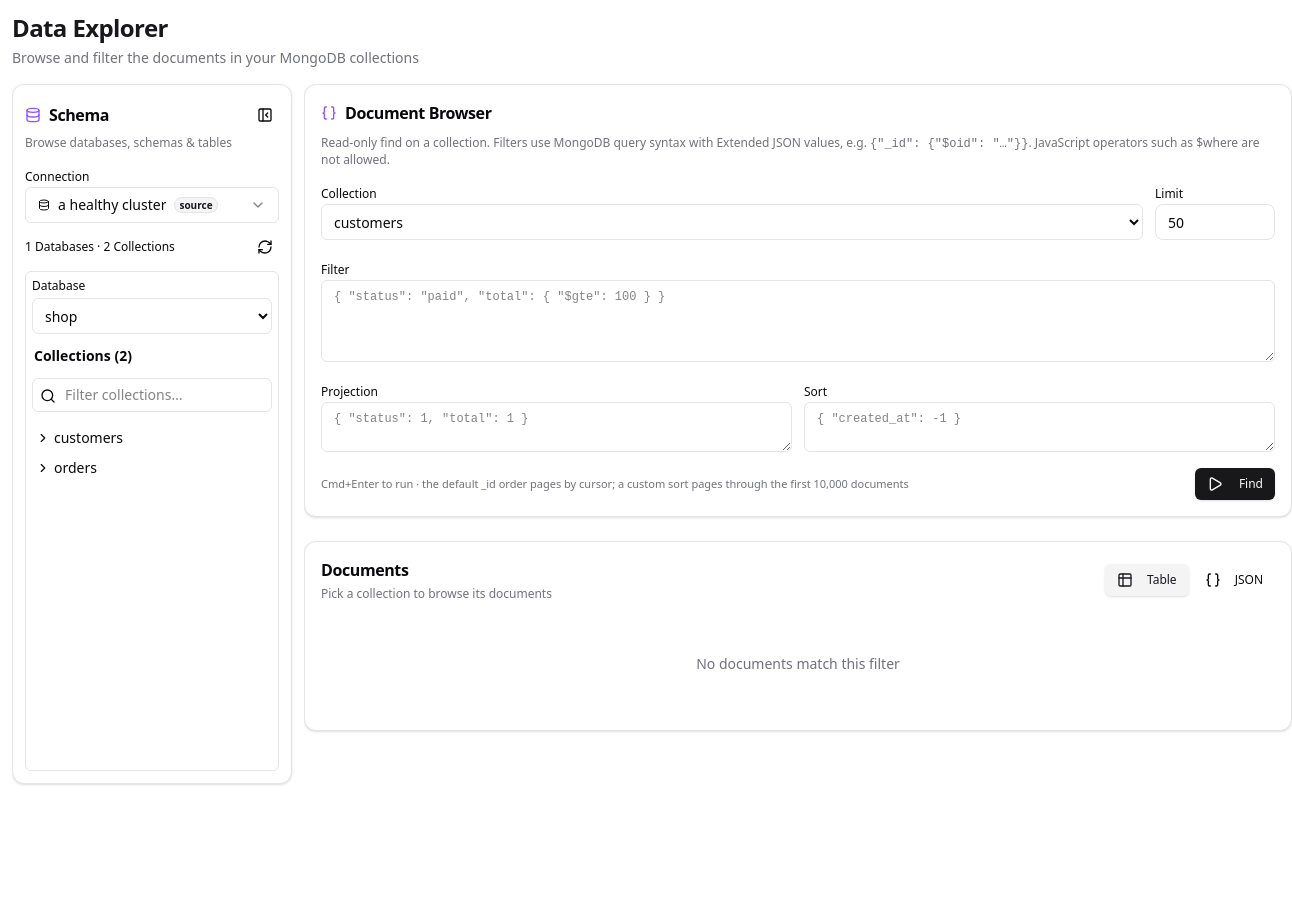
Explorer header for a document connection › drops a failure when switching back to a connection that loaded
Expected: the label with test id "schema-count-label" reads "1 databases · 2 collections", [25,239,175,255]
Click the dropdown labelled "a healthy cluster source": point(152, 205) [25,187,279,223]
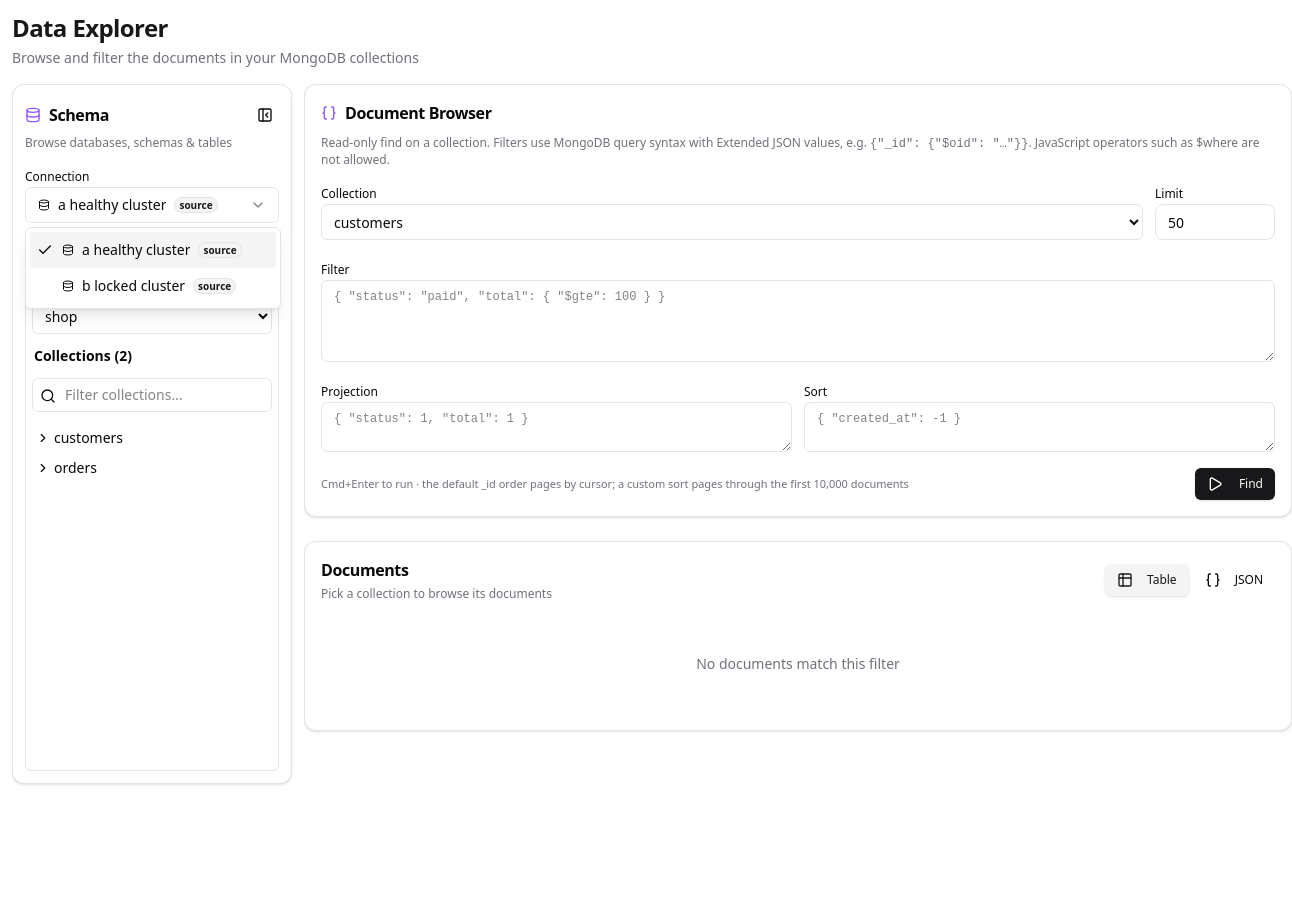
Click the option "b locked cluster source": point(149, 286) [62,276,236,295]
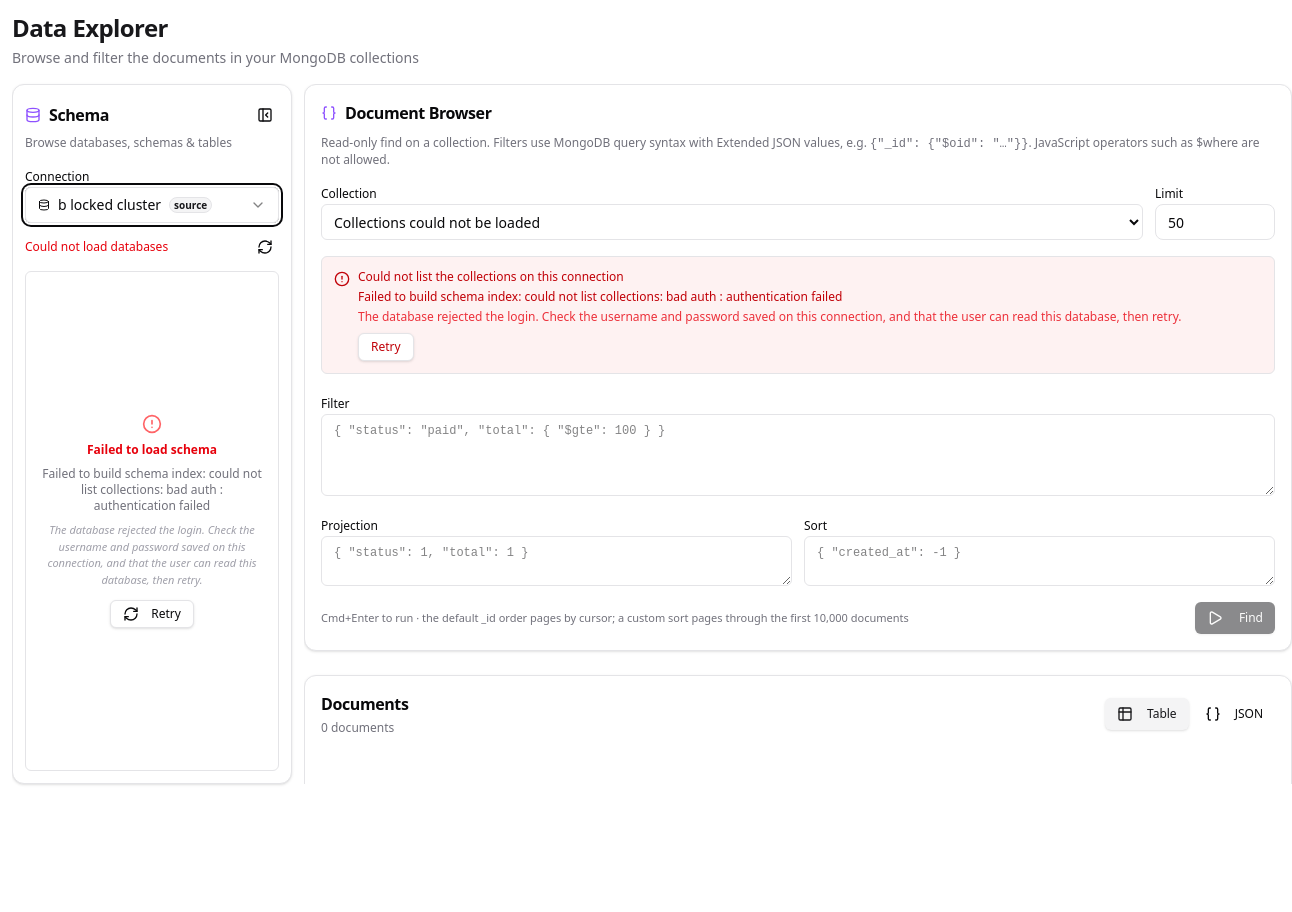
Now the message with test id "doc-collections-error" is shown, box [321,256,1275,374]
Now the label with test id "schema-count-label" reads "Could not load databases", box [25,238,168,255]
Click the dropdown labelled "b locked cluster source": point(152, 205) [25,187,279,223]
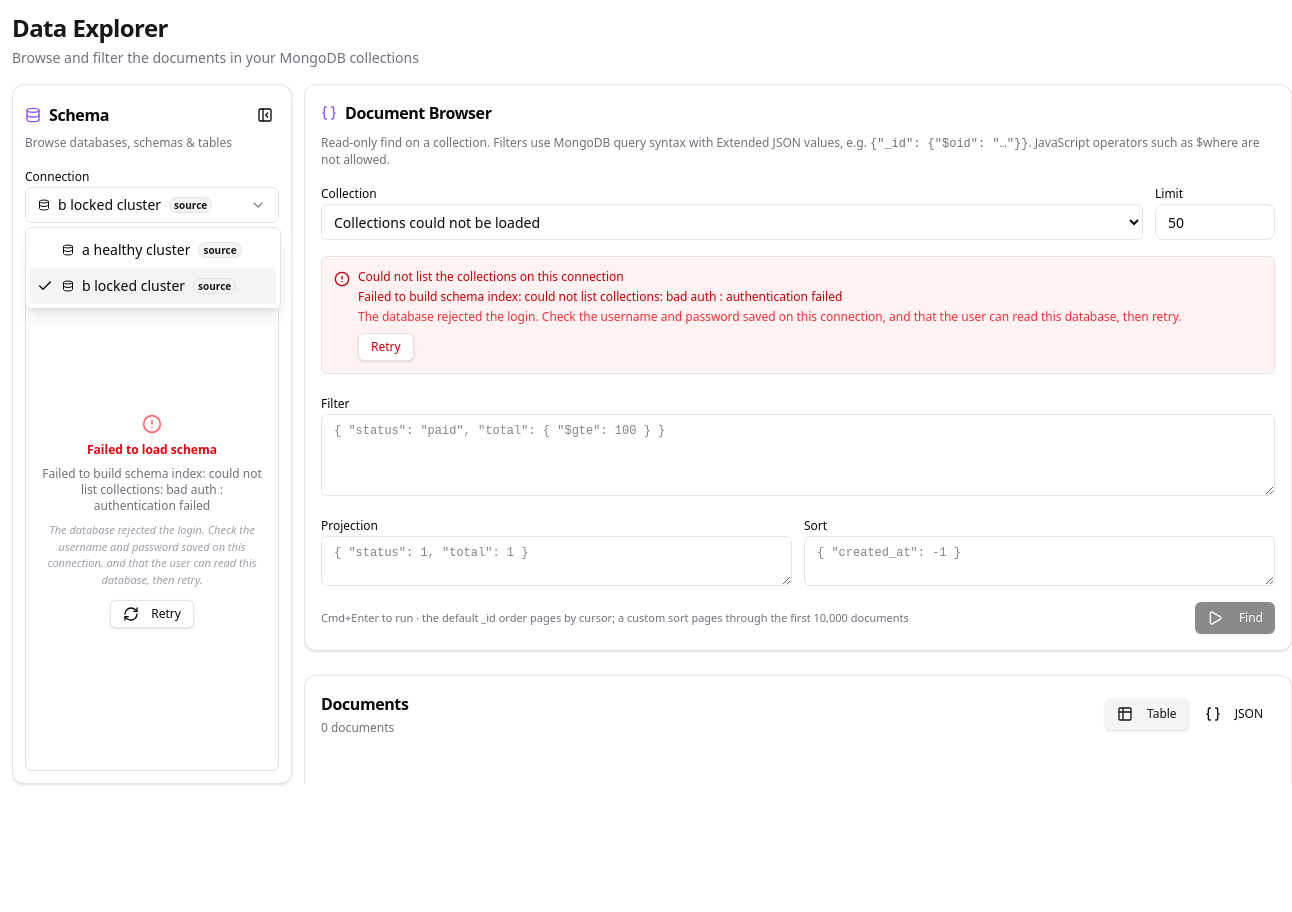
Click the option "a healthy cluster source": point(152, 250) [62,240,242,259]
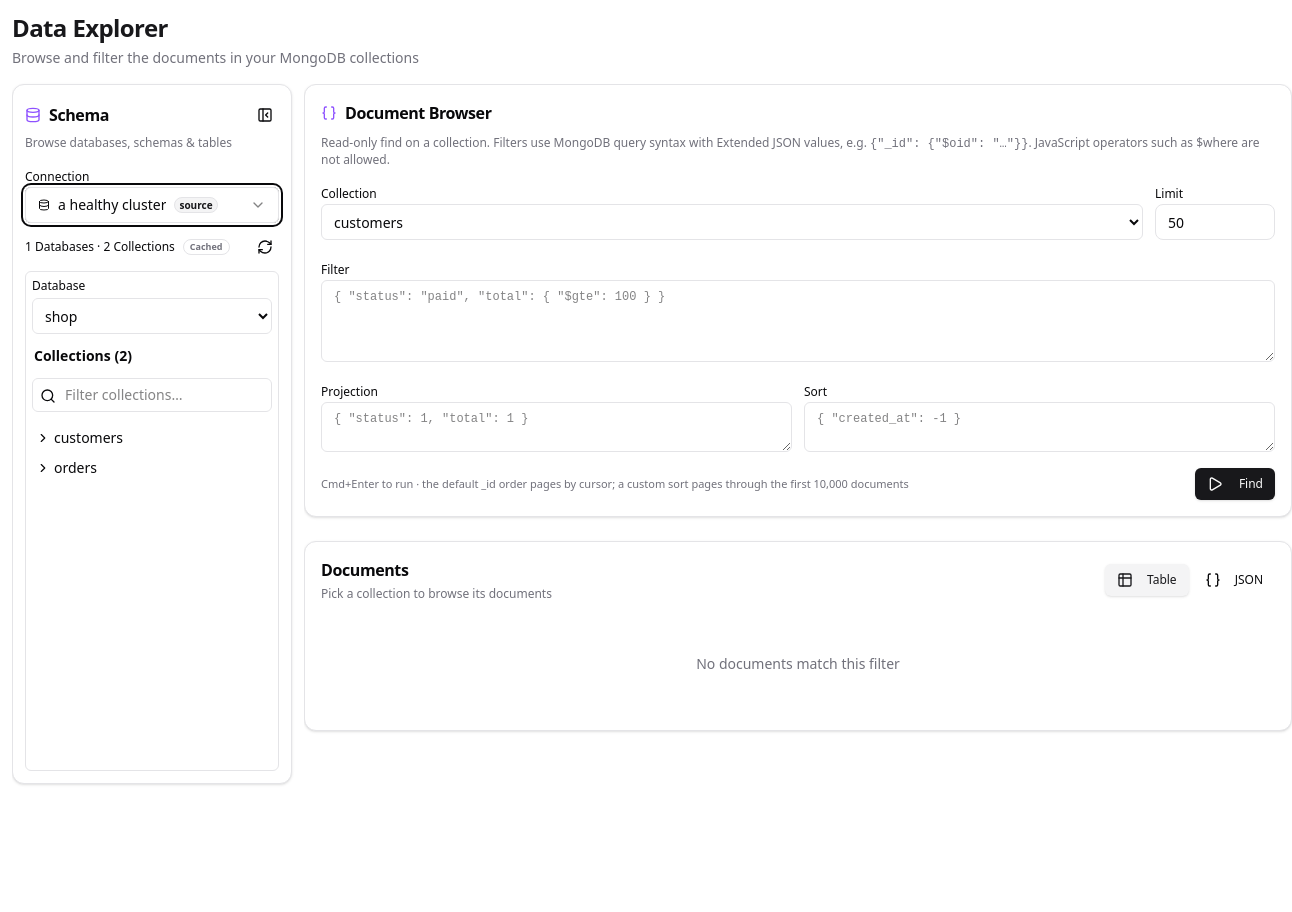
Now the label with test id "schema-count-label" reads "1 databases · 2 collections", box [25,239,175,255]
Now the message with test id "doc-collections-error" is gone
Now the label with test id "schema-count-label" no longer shows "Could not load", box [25,239,175,255]
